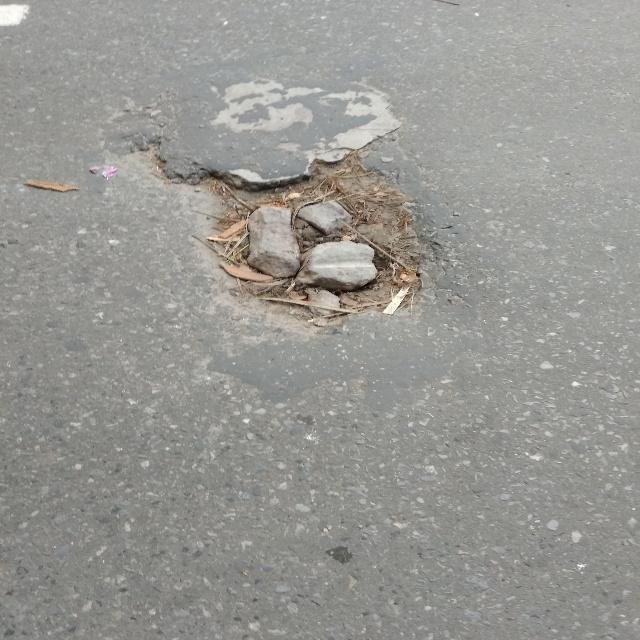Pothole: (194, 158, 400, 315)
